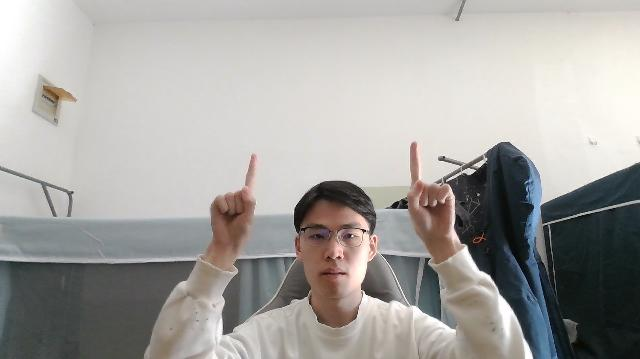one: (408, 139, 456, 239), (210, 151, 259, 246)
